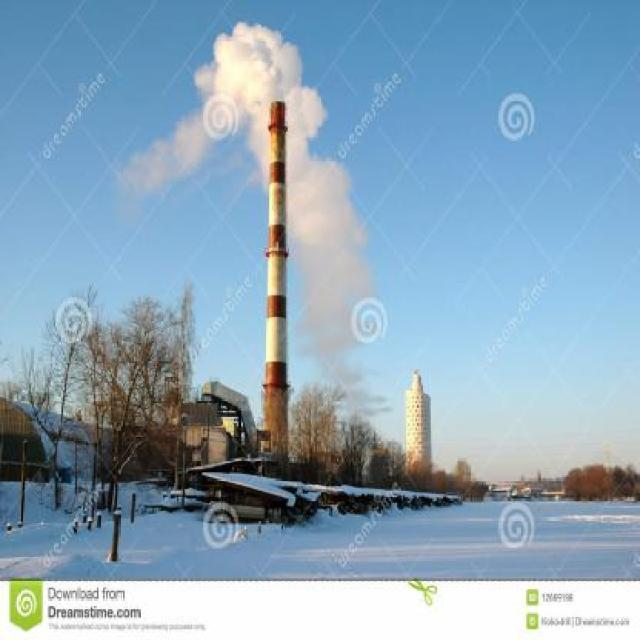smoke: (207, 24, 400, 332)
